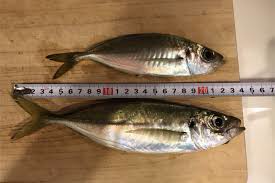azi: (12, 91, 243, 158), (40, 28, 226, 83)
